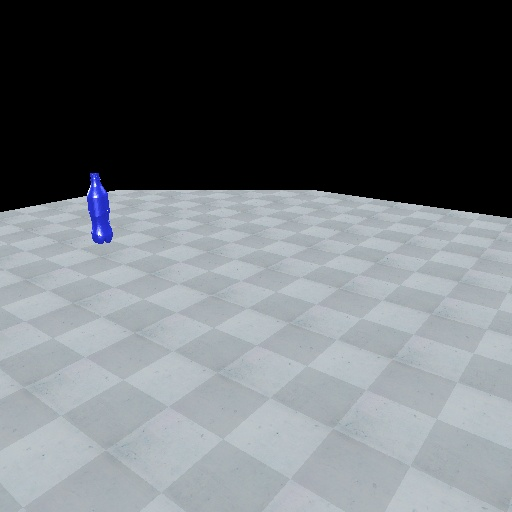bottle: (84, 170, 116, 246)
